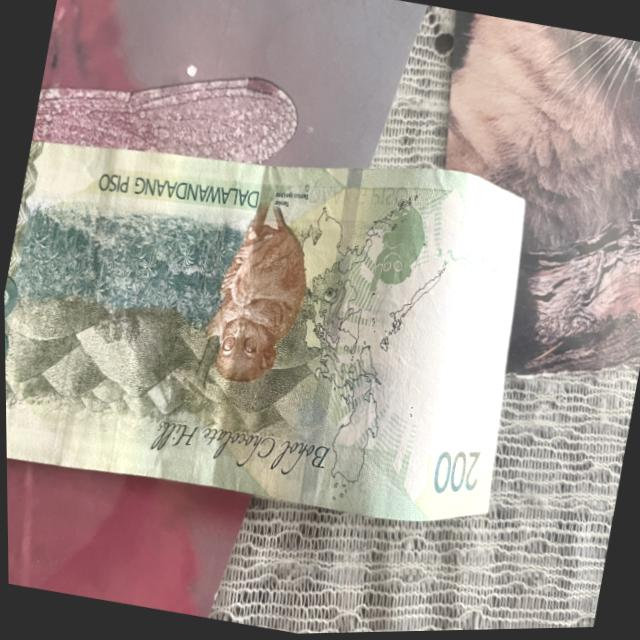200_tarsier: (185, 186, 338, 436)
200_tarsier_watermark: (360, 190, 443, 322)
